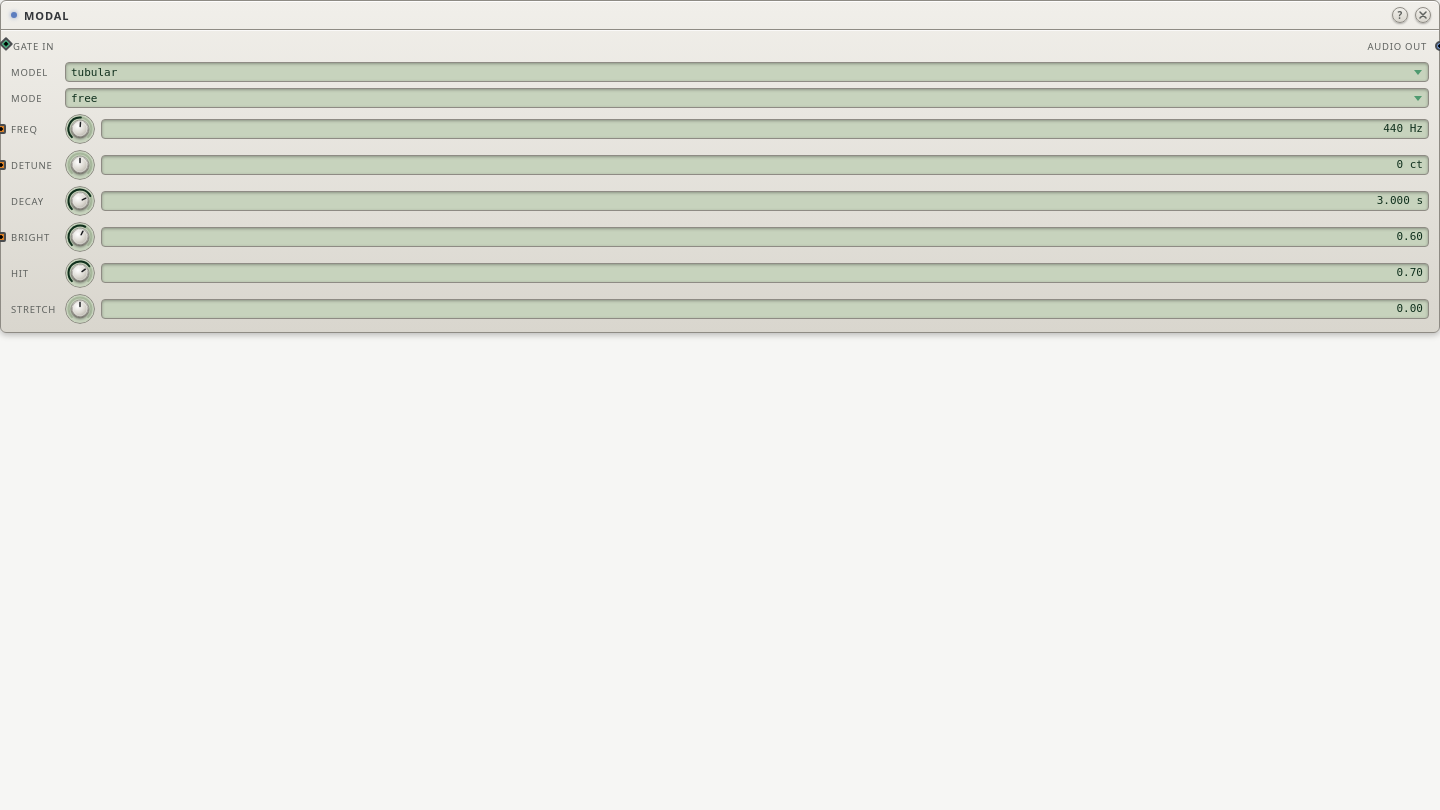
ModuleNode › the help of a module › closes it with a click anywhere else
The image size is (1440, 810).
Click the button named "Help for Modal": (1400, 15) [1392, 7, 1408, 23]
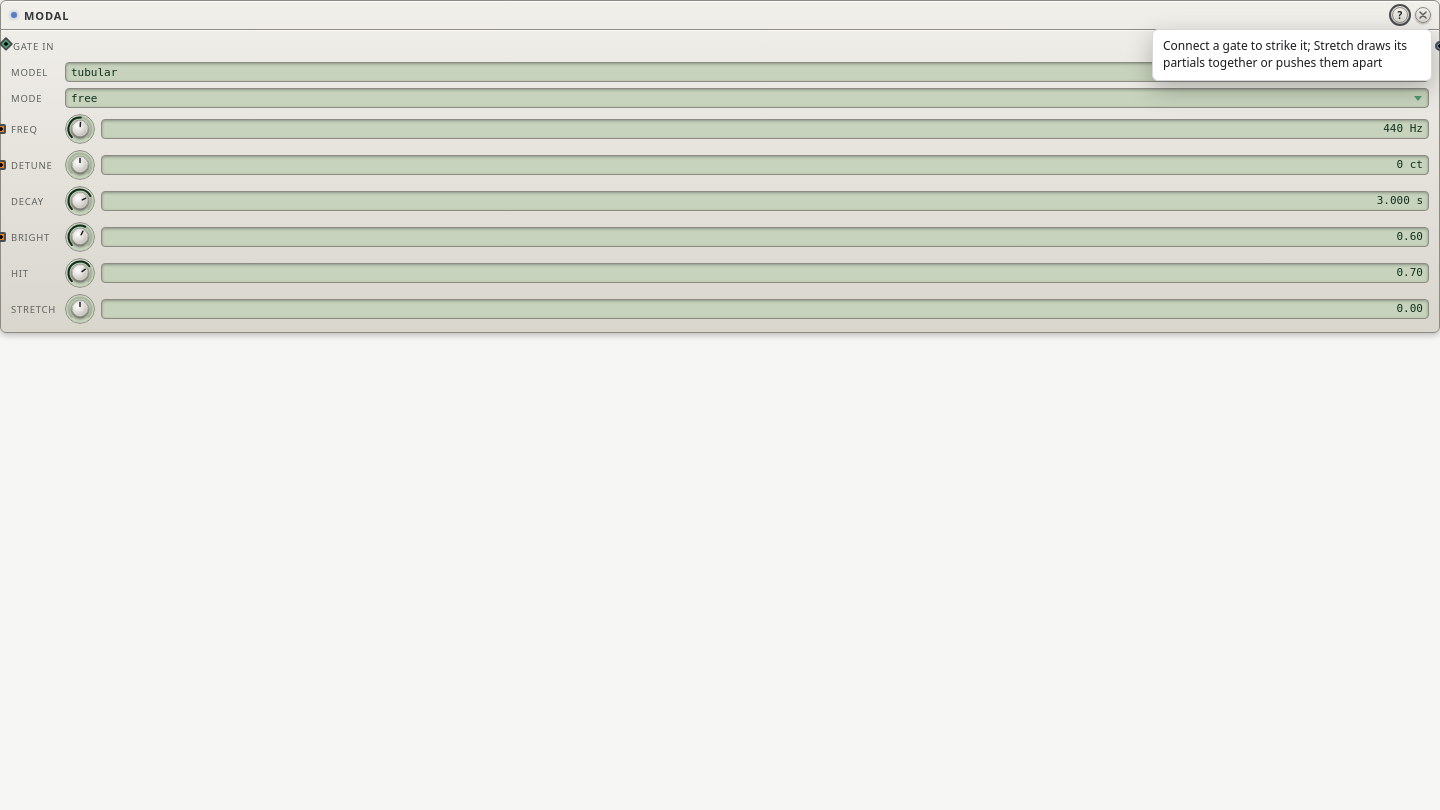
Click the element that starts with "Modal": (720, 405) [0, 0, 1439, 809]
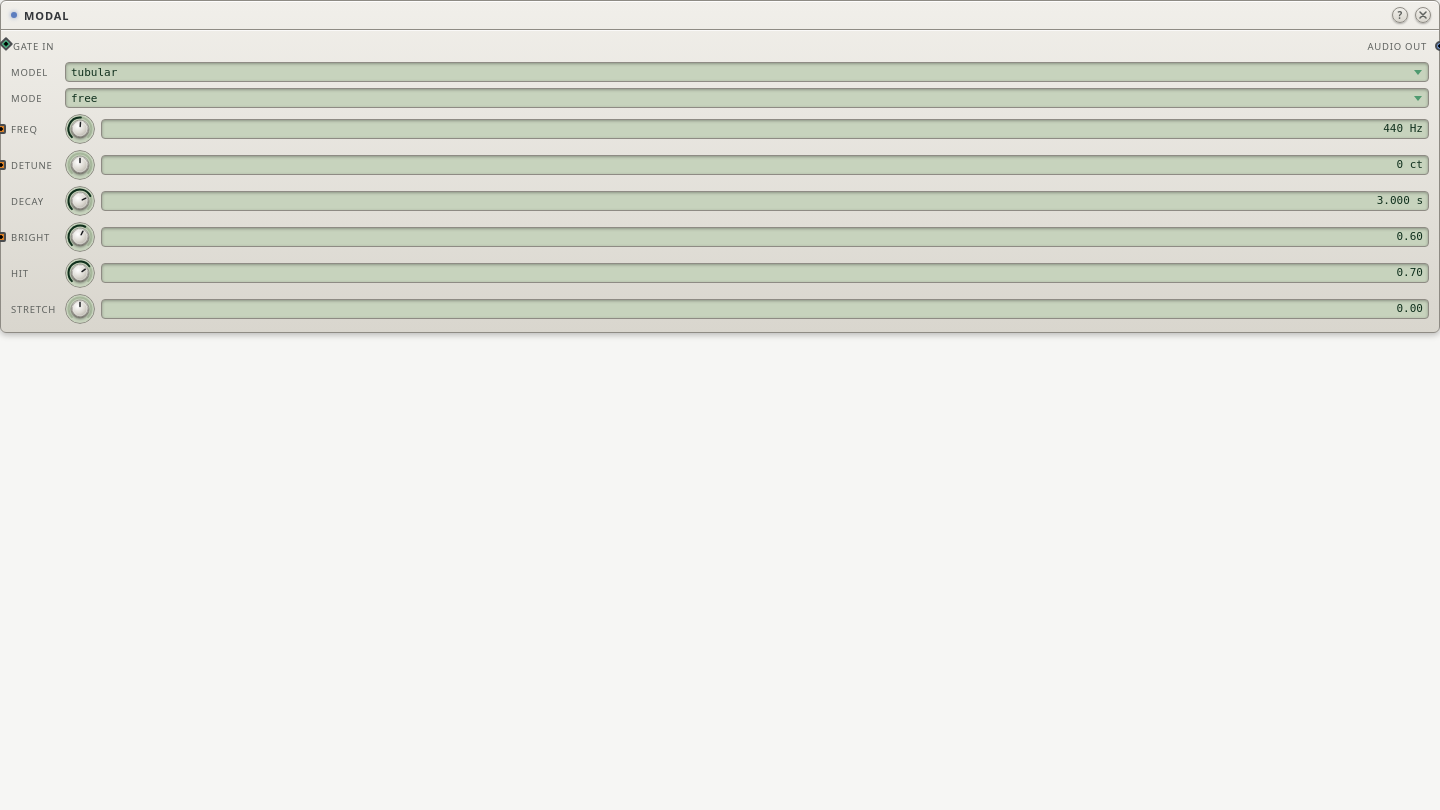
Expected: the tooltip "Connect a gate to strike it; Stretch draws its partials together or pushes them" is gone
